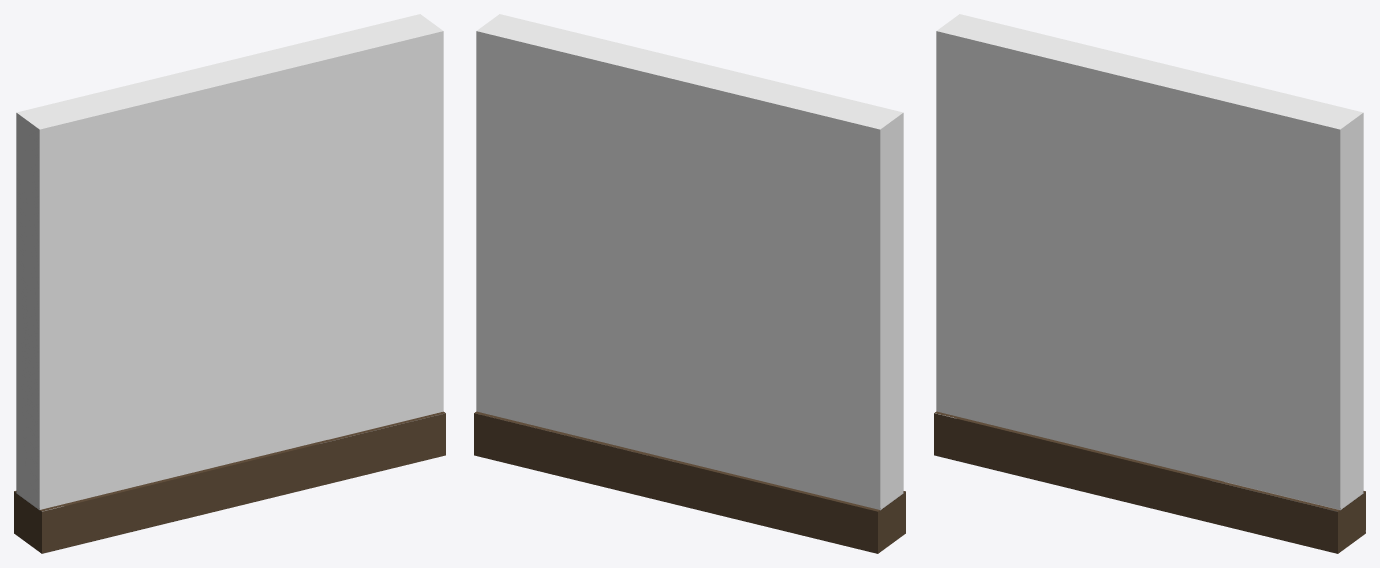
File: wall.glb
The picture shows the model from 3 angles, left to right: view 1: azimuth 30°, elevation 25°; view 2: azimuth 150°, elevation 25°; view 3: azimuth 330°, elevation 25°; orthographic projection.
Parts seen in each view (by area): view 1: Cube; view 2: Cube; view 3: Cube.
Part boxes in pixels (box(x1,y1,x2,y2)): Cube: box(14, 14, 445, 553); Cube: box(474, 14, 905, 553); Cube: box(934, 14, 1365, 553).
Bounding box in the file's own units: 1000 × 1000 × 120.
1 material, 1 textured.
